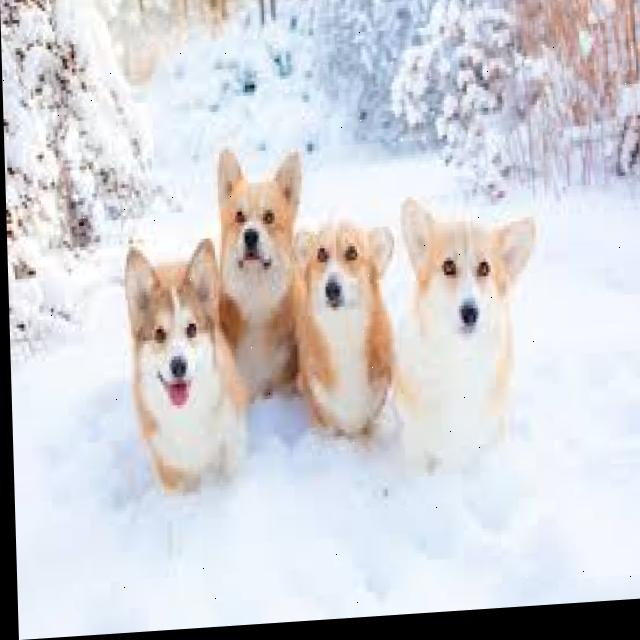CORGI: (388, 197, 544, 473), (198, 145, 329, 441), (106, 236, 234, 498), (286, 214, 399, 464)
